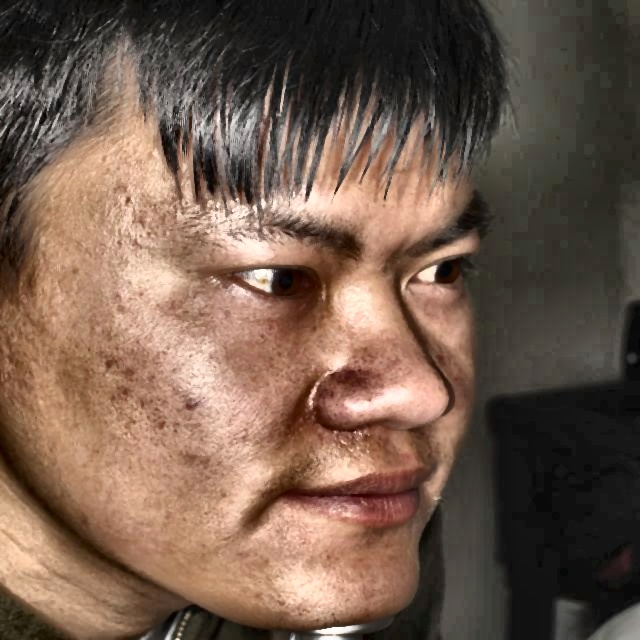comedone: (175, 394, 207, 425)
